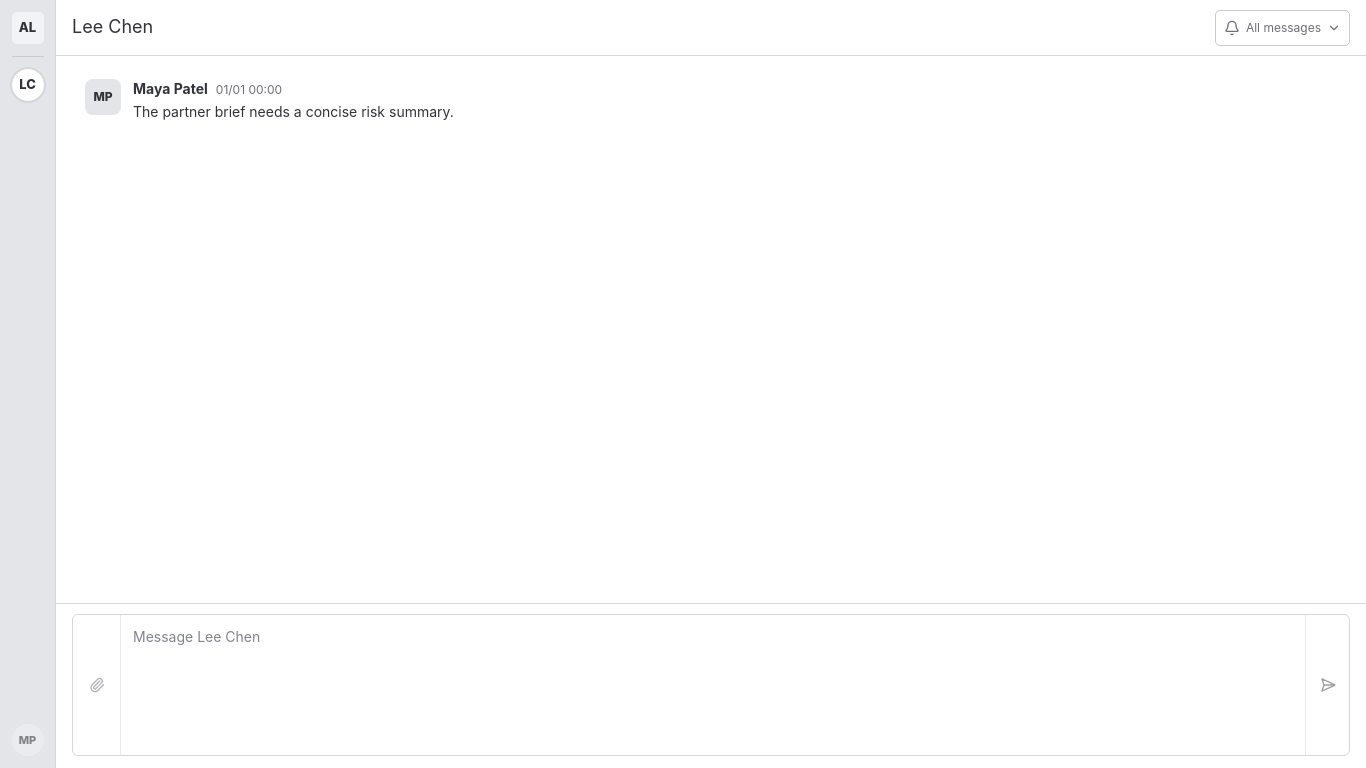
WorkspaceChat › omits mention-only notification mode for direct conversations
The image size is (1366, 768).
Click the dropdown named "Notifications for Lee Chen": [1282, 28] box [1215, 10, 1350, 46]
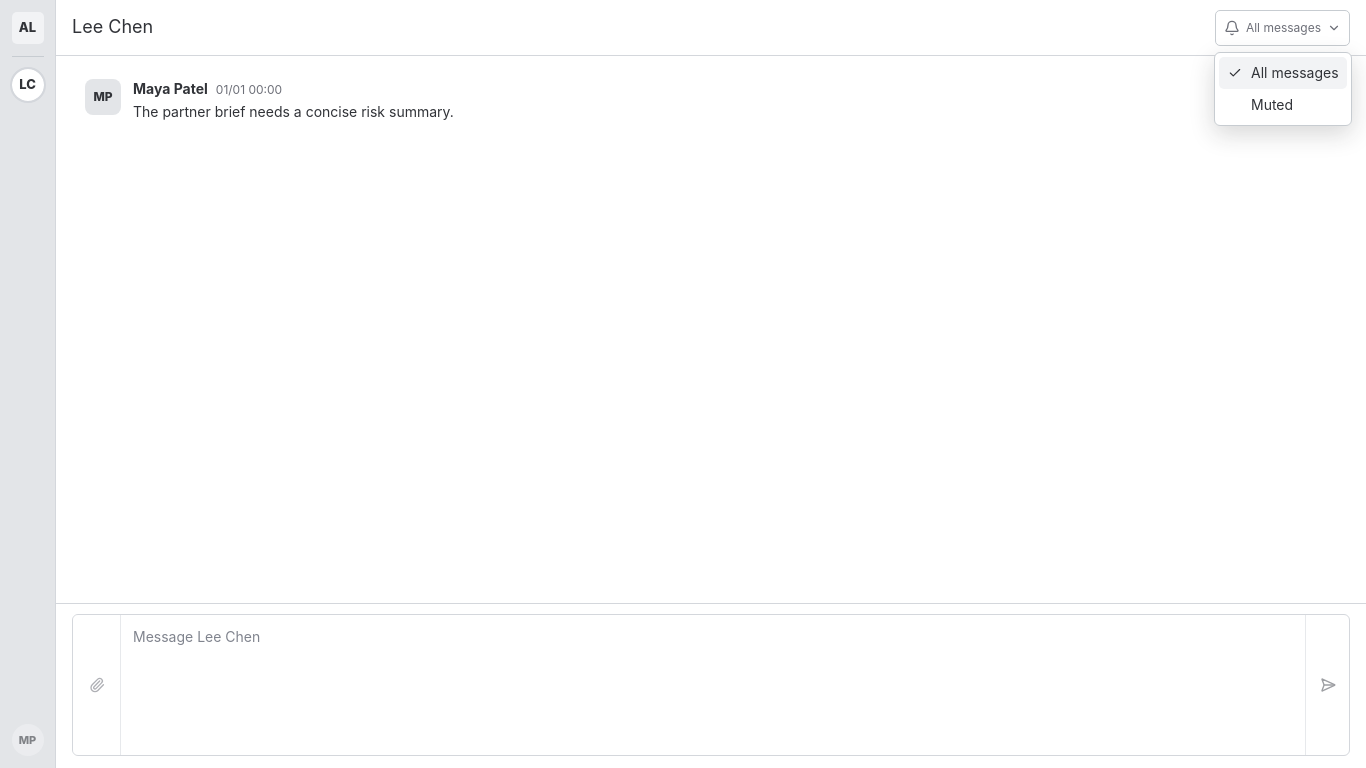
Now the option "All messages" is shown, box [1219, 57, 1347, 89]
Now the option "Muted" is shown, box [1251, 96, 1293, 113]
